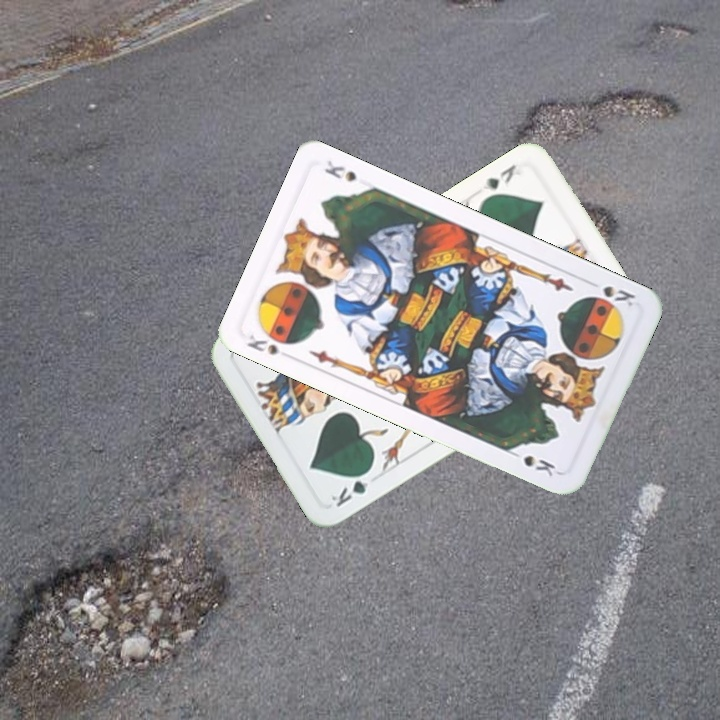GK: (327, 465, 376, 510), (478, 160, 519, 194)
SK: (242, 330, 297, 360), (599, 281, 638, 310)
